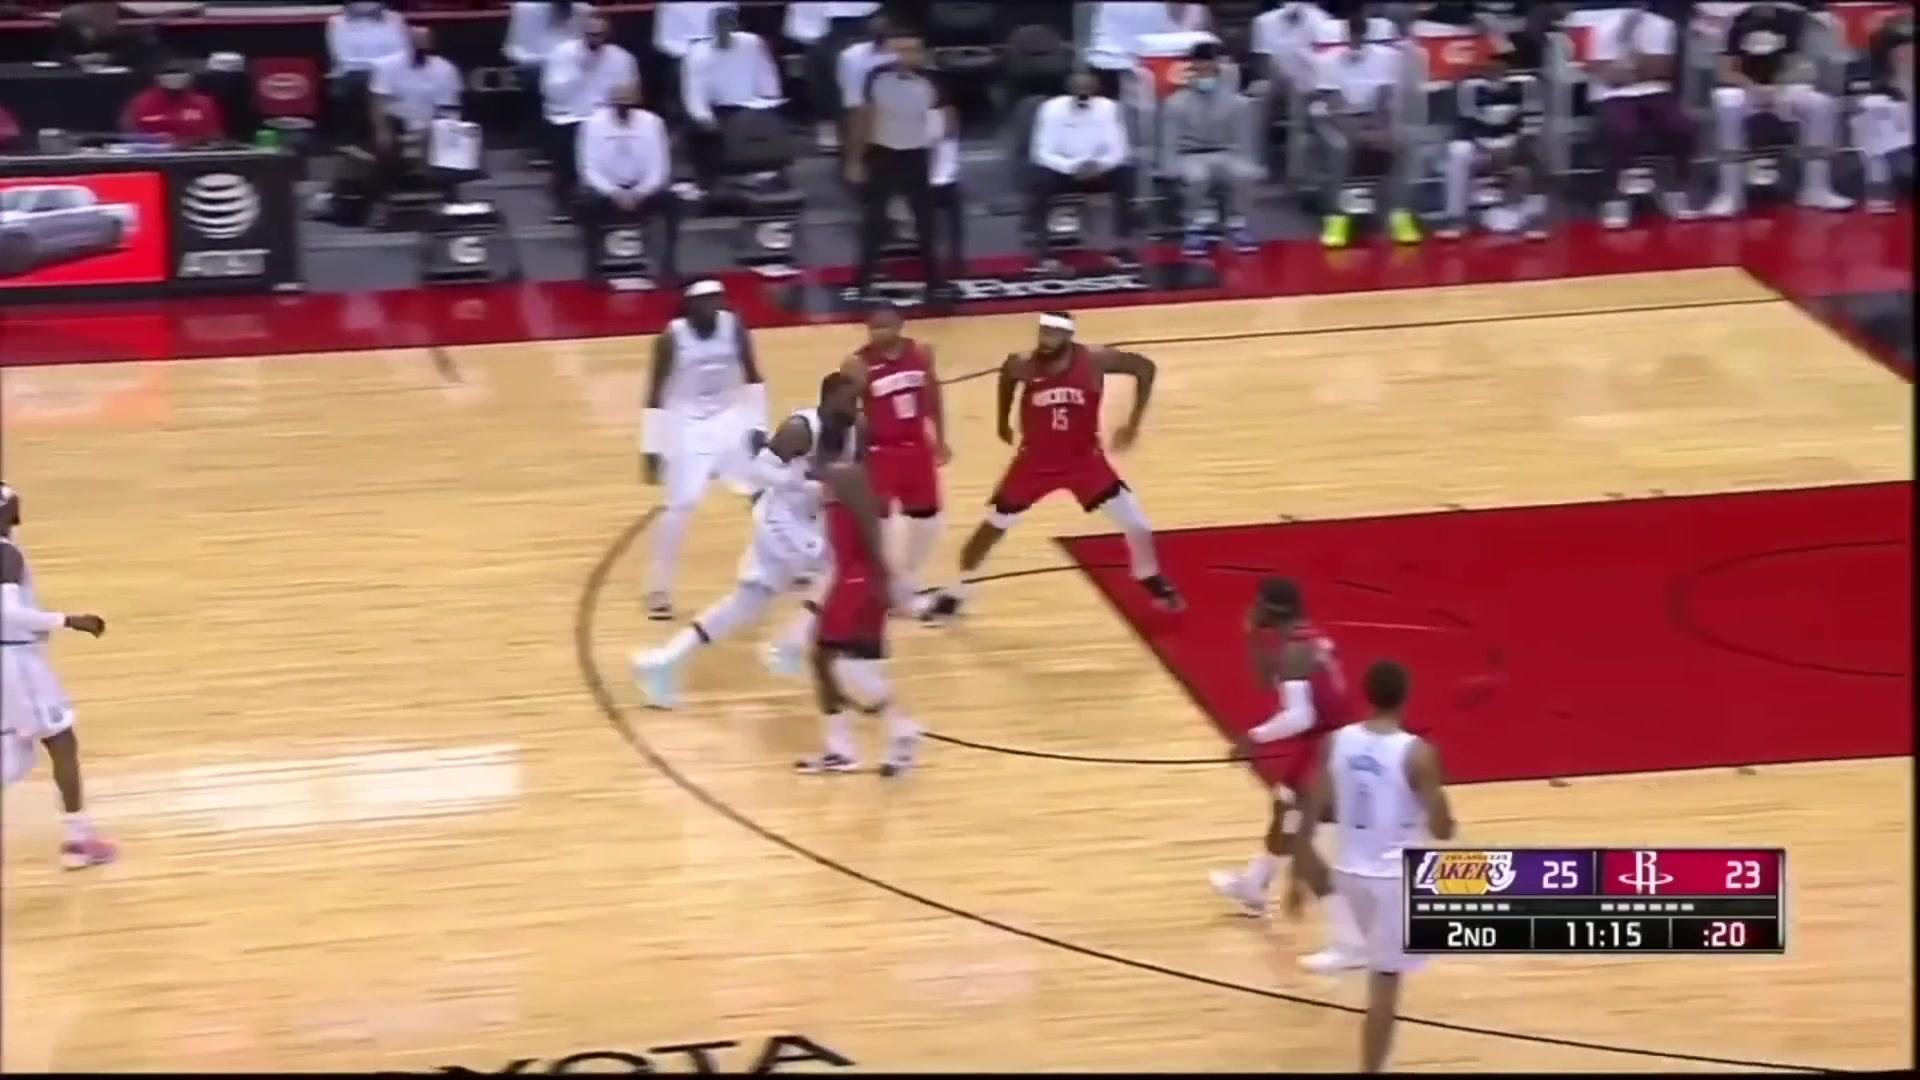no_foul: (688, 309, 984, 745)
